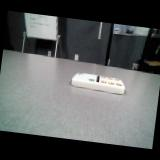domino: (72, 73, 124, 94)
